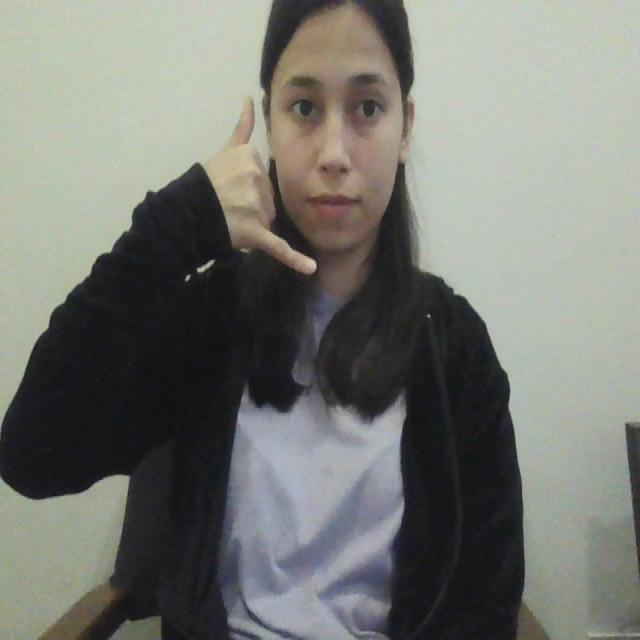Telefon: (183, 96, 325, 289)
